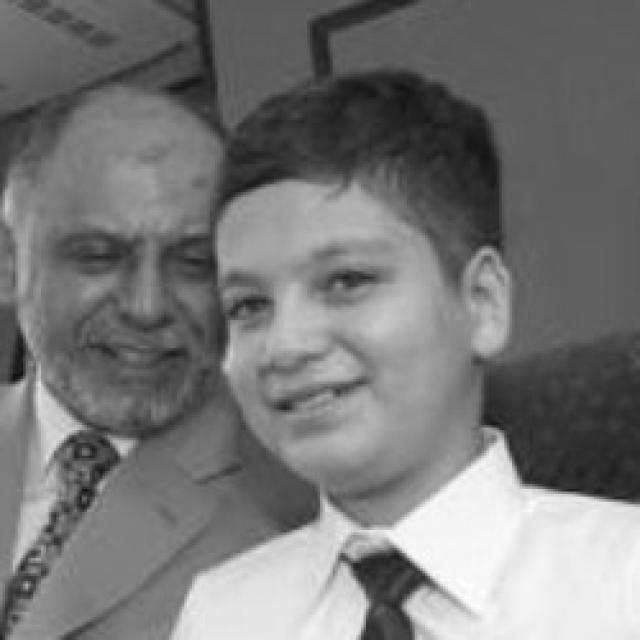real: (222, 108, 518, 488), (10, 48, 226, 454), (78, 232, 222, 285)
